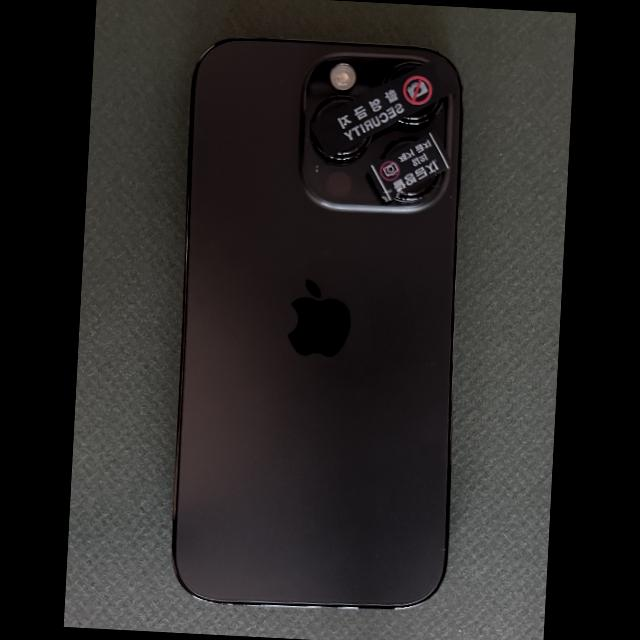lens: (327, 139, 369, 160), (401, 102, 439, 124), (401, 178, 432, 196)
phone: (169, 39, 463, 611)
sticker: (310, 58, 458, 157), (368, 134, 452, 202)
